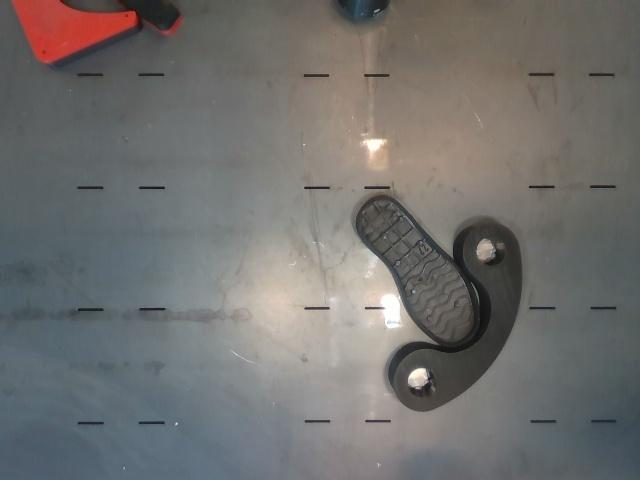shoes: (360, 198, 474, 342)
